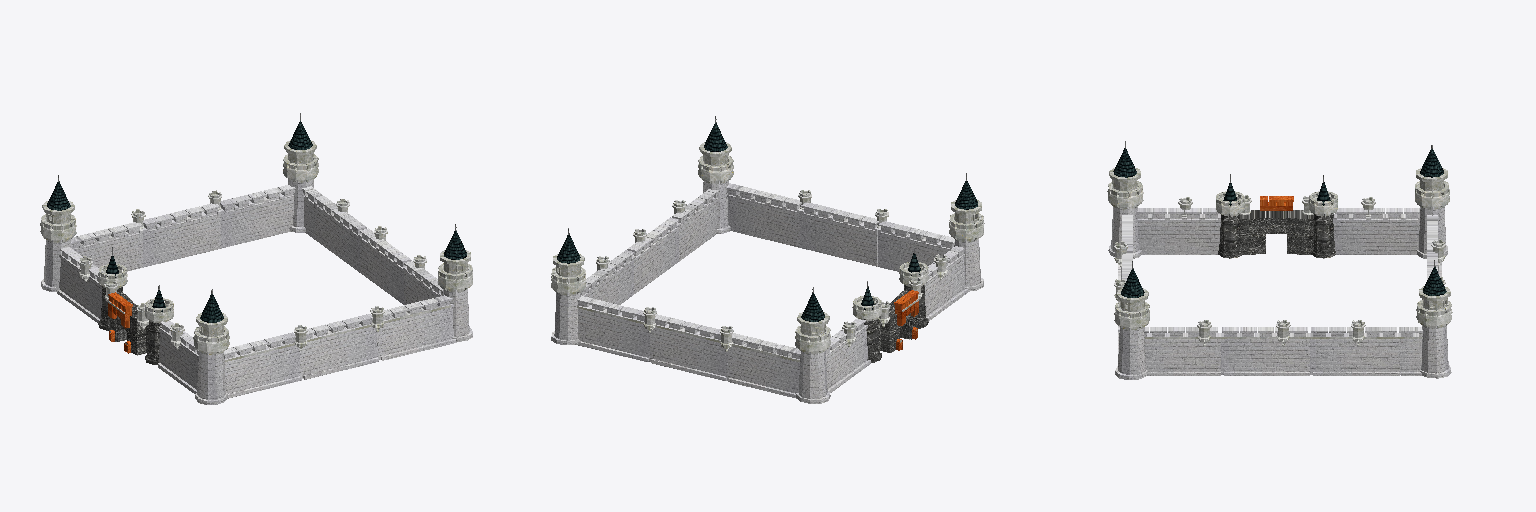
3 views of the same model, side by side, from view 1: azimuth 30°, elevation 25°; view 2: azimuth 150°, elevation 25°; view 3: azimuth 270°, elevation 25° (orthographic).
Visible parts, largest first — view 1: Object.1; view 2: Object.1; view 3: Object.1.
Boxes of the visible parts, x1,y1,x2,y2 form: Object.1: [40, 113, 472, 404]; Object.1: [551, 116, 984, 403]; Object.1: [1107, 141, 1452, 379].
Bounding box in the file's own units: 170 × 65.24 × 180.
6 materials, 5 textured.